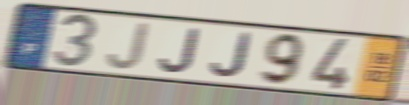3: (51, 11, 100, 71)
4: (307, 37, 352, 92)
9: (257, 32, 306, 87)
J: (105, 21, 152, 71), (157, 27, 203, 75), (208, 31, 254, 79)
